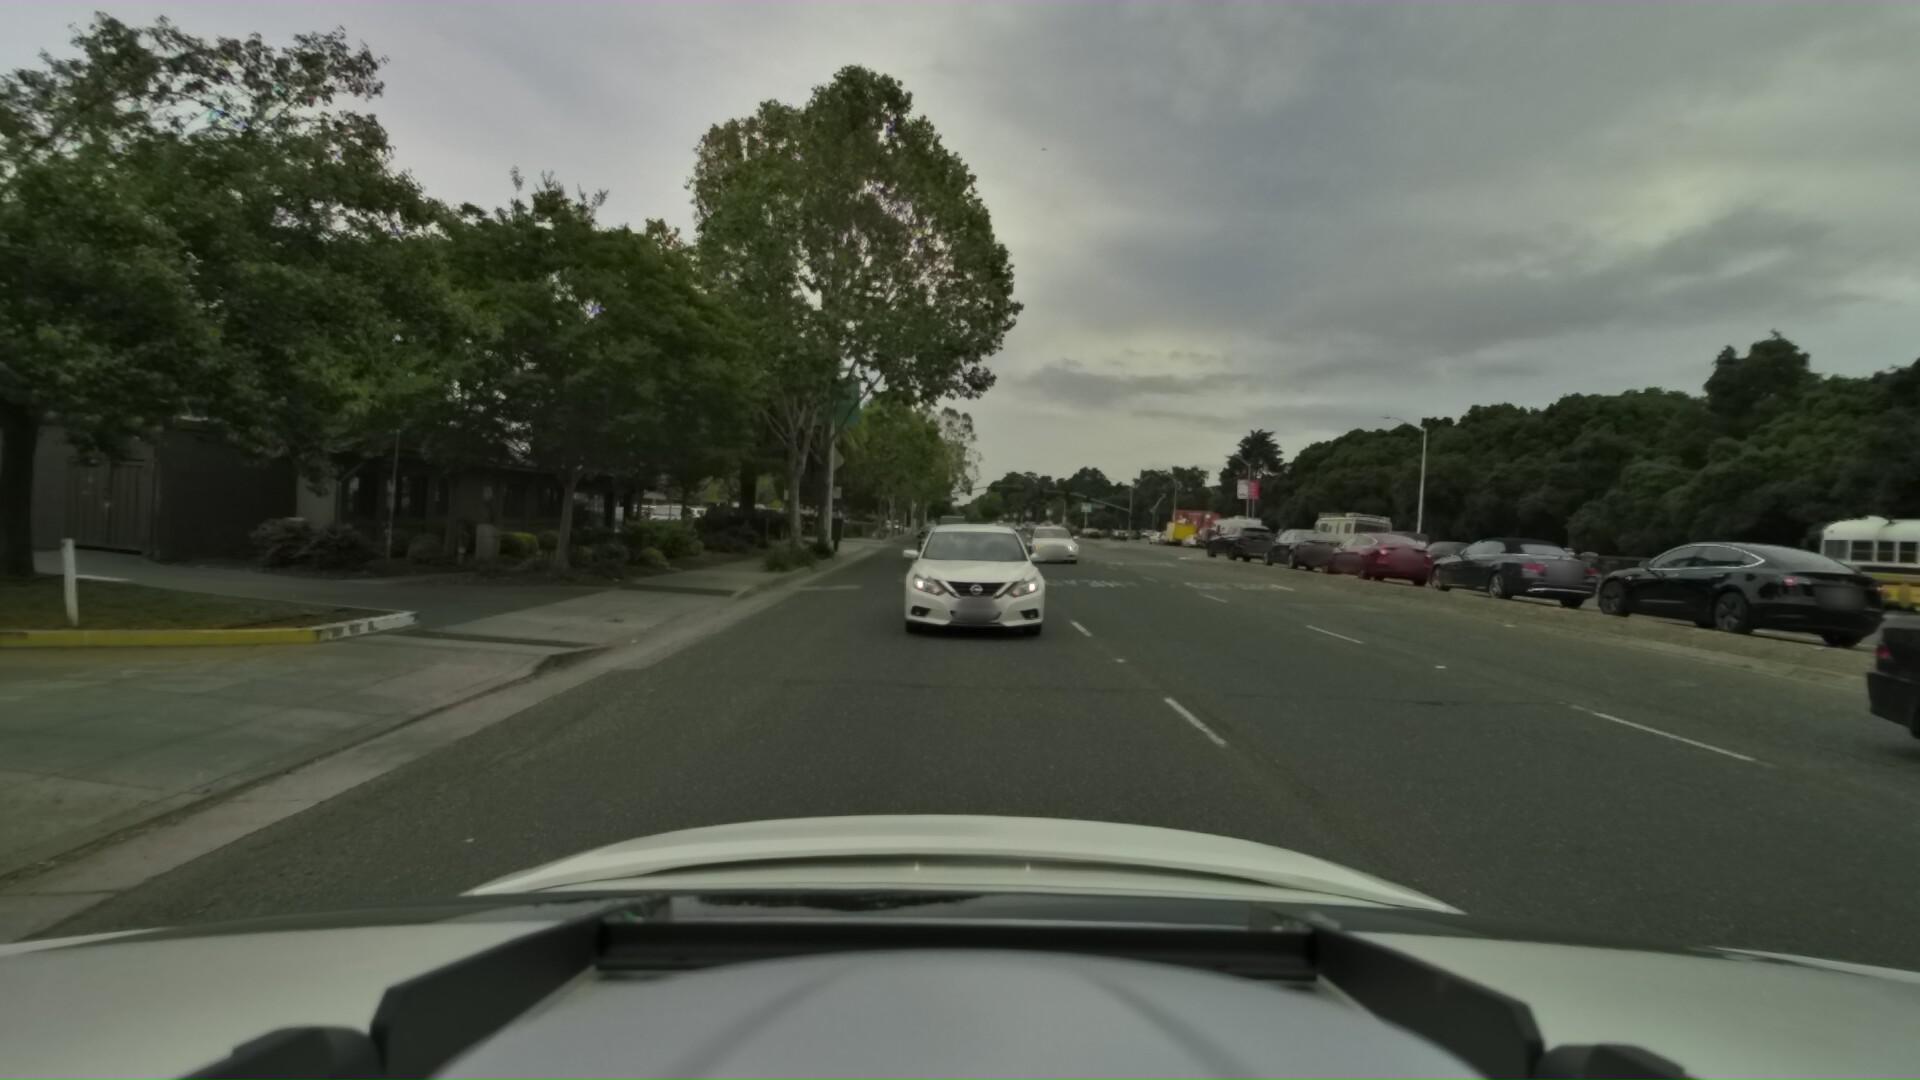bus: (1753, 502, 1920, 659)
car: (1702, 530, 1920, 913), (1542, 527, 1867, 649), (895, 509, 1054, 644), (1402, 521, 1588, 607), (1303, 520, 1425, 582), (1251, 516, 1348, 568), (1197, 514, 1276, 560), (1404, 531, 1482, 574), (1362, 522, 1431, 564), (1015, 513, 1073, 555), (642, 489, 705, 527), (934, 508, 971, 542)
other_vehicle: (1305, 504, 1393, 553)
